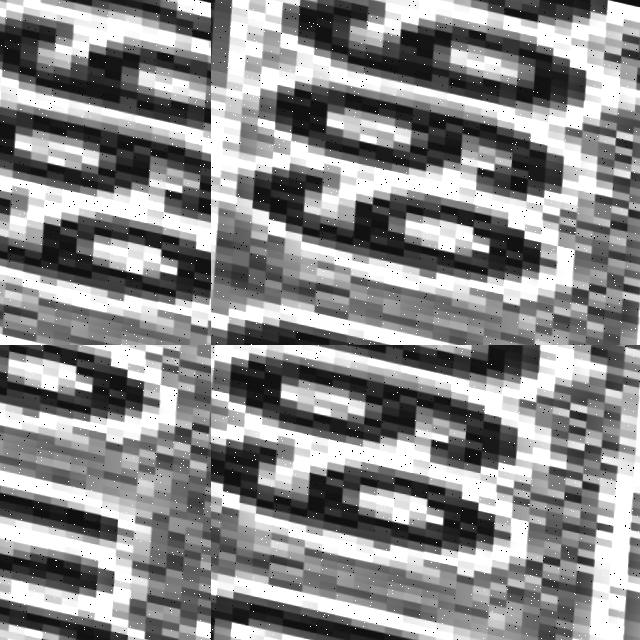license-plate: (211, 0, 640, 345), (211, 345, 640, 640), (0, 0, 211, 345), (0, 345, 211, 640)
